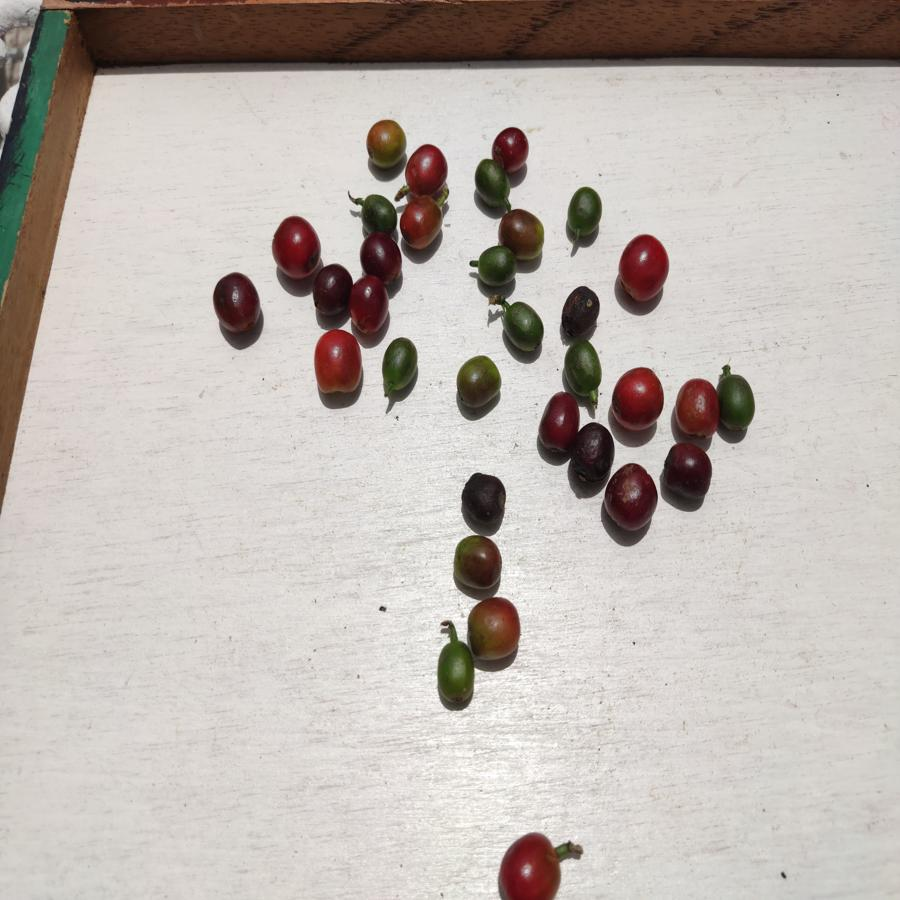Inmaduro: (495, 298, 545, 355), (717, 370, 757, 436), (561, 340, 607, 396), (379, 337, 421, 393), (437, 641, 474, 702), (566, 186, 602, 240), (472, 247, 516, 289), (474, 160, 509, 207), (355, 194, 398, 230)
Maduro: (498, 831, 564, 900), (618, 235, 672, 306), (311, 327, 364, 393), (612, 367, 666, 431), (271, 217, 323, 278), (675, 377, 720, 438), (401, 198, 446, 250), (406, 142, 450, 194)
Pinton: (469, 597, 521, 662), (452, 535, 506, 590), (454, 355, 501, 408), (364, 119, 406, 170), (502, 210, 546, 257)
Sobremaduro: (605, 463, 659, 531), (660, 443, 714, 502), (212, 273, 261, 335), (566, 421, 613, 485), (457, 470, 510, 525), (539, 393, 579, 452), (316, 263, 353, 317), (558, 287, 599, 335), (361, 233, 402, 281), (351, 277, 388, 329), (492, 126, 528, 170)
